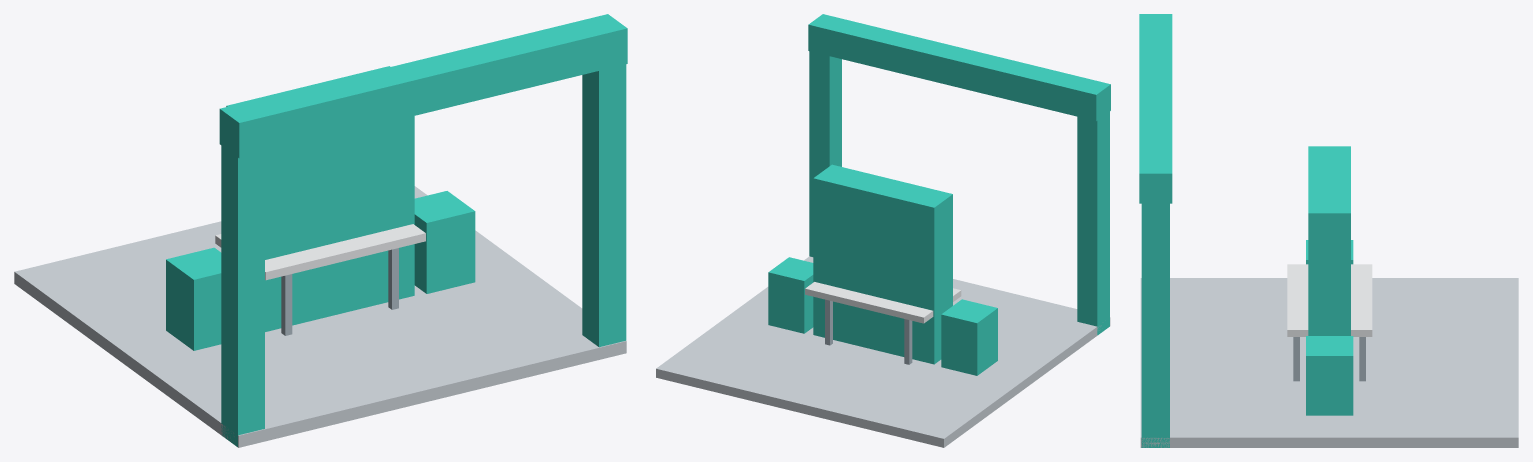
3 views of the same model, side by side, from view 1: azimuth 30°, elevation 25°; view 2: azimuth 150°, elevation 25°; view 3: azimuth 270°, elevation 25° (orthographic). The views are drawn at different scales.
Visible parts, largest first — view 1: Exhibition Booth Concept; view 2: Exhibition Booth Concept; view 3: Exhibition Booth Concept.
Boxes of the visible parts, x1,y1,x2,y2 form: Exhibition Booth Concept: (14,14,627,447); Exhibition Booth Concept: (656,14,1110,447); Exhibition Booth Concept: (1139,14,1518,447).
Size of the model in its own units: 4 by 3.2 by 4.02.
